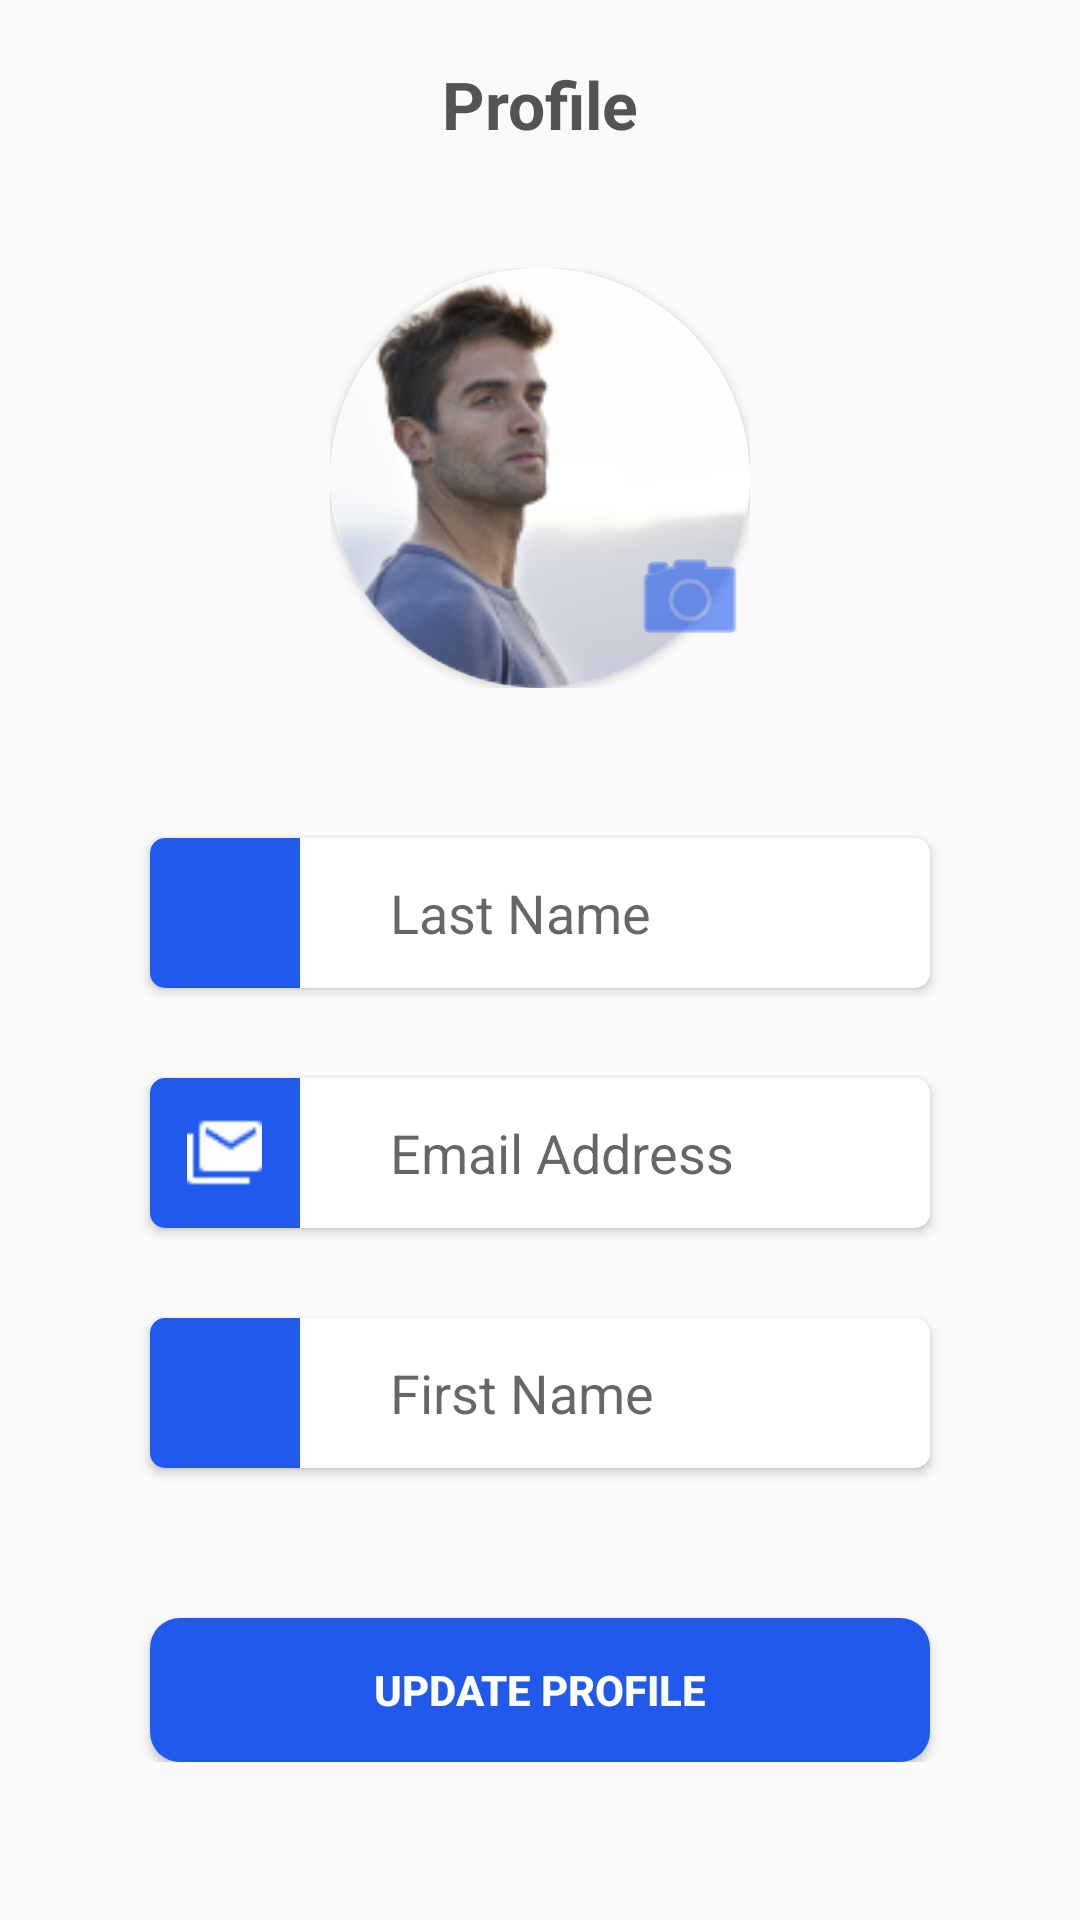

Named icons in this screenshot (1080 × 1920) and their centers, (x=x, y=y):
camera: (x=690, y=598)
email multiple: (x=224, y=1152)
